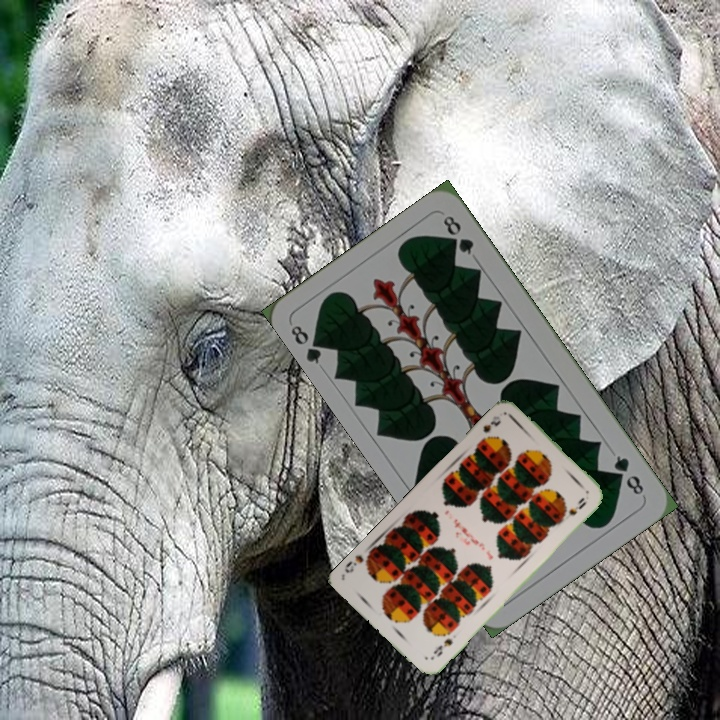G8: (286, 321, 329, 367), (609, 451, 647, 498)
S9: (476, 412, 504, 445), (429, 634, 455, 660)
